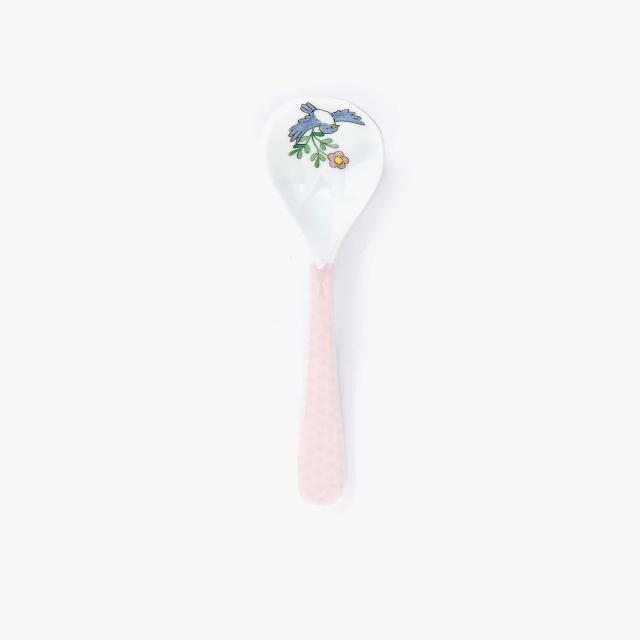spoon: (236, 73, 411, 517)
